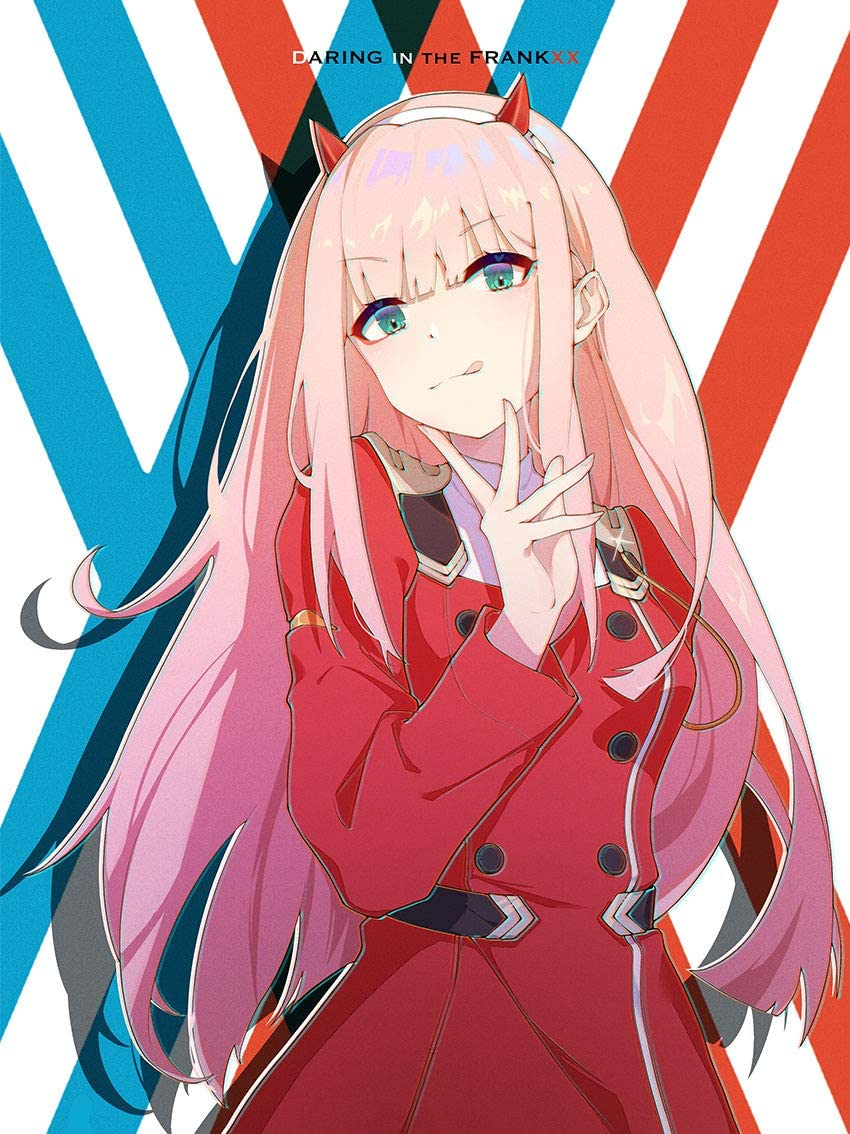zeroTwo: (276, 70, 608, 441)
